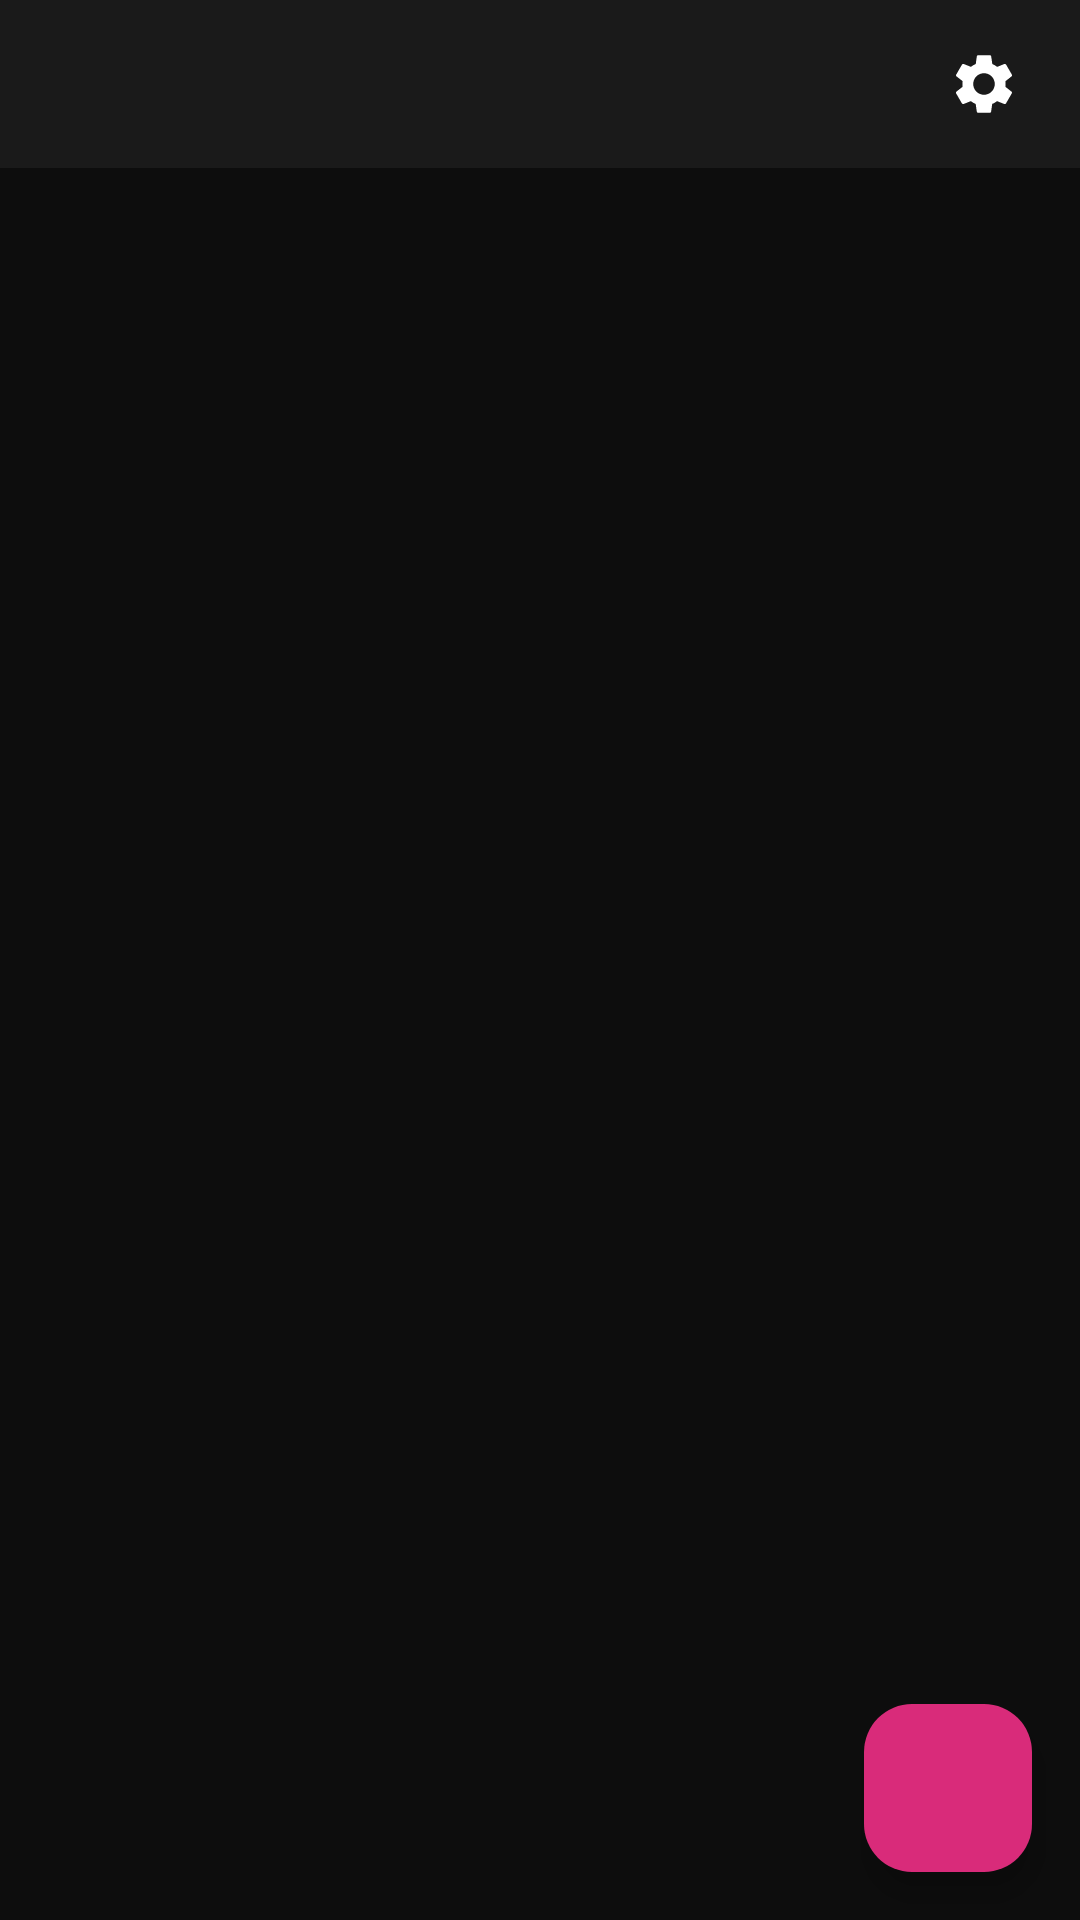

Point at icon controls on the screen. Image size 1080×1920, points as (x=x, y=y).
settings: (x=984, y=84)
